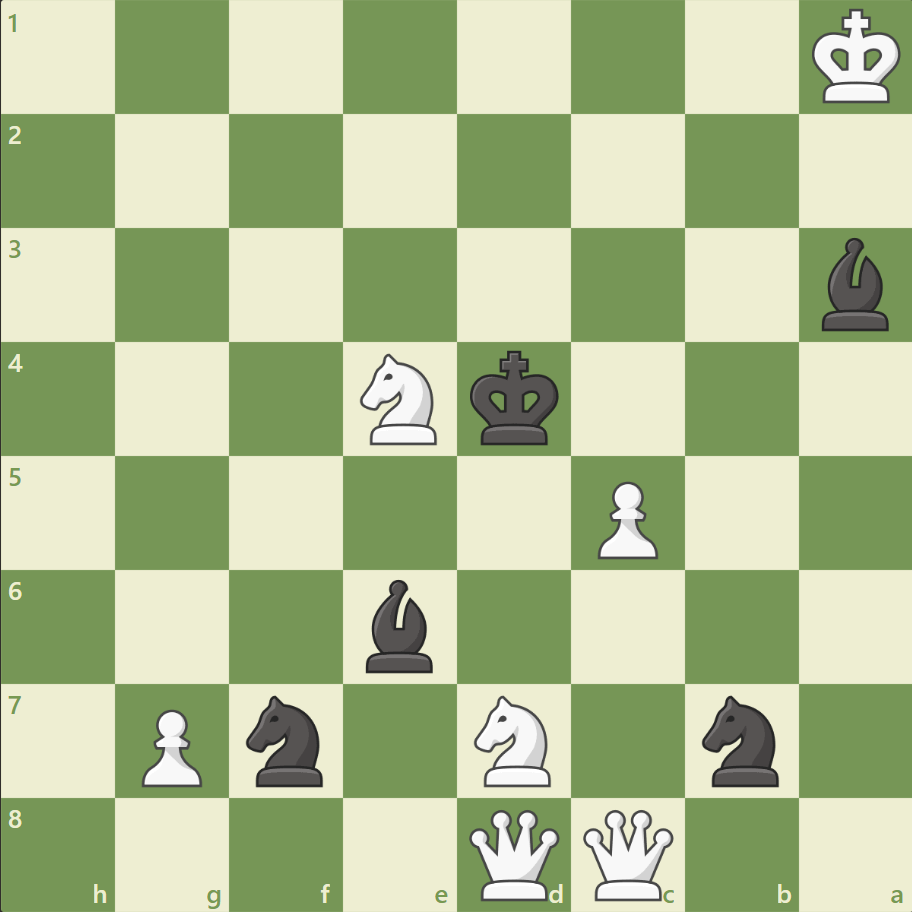K: (806, 4, 906, 112)
N: (351, 348, 449, 450), (465, 688, 562, 791)
P: (133, 700, 208, 791), (588, 473, 662, 564)
Q: (578, 804, 677, 903), (464, 804, 563, 903)
b: (812, 233, 896, 336), (358, 574, 442, 676)
k: (465, 344, 565, 452)
n: (692, 688, 789, 791), (238, 688, 335, 791)
